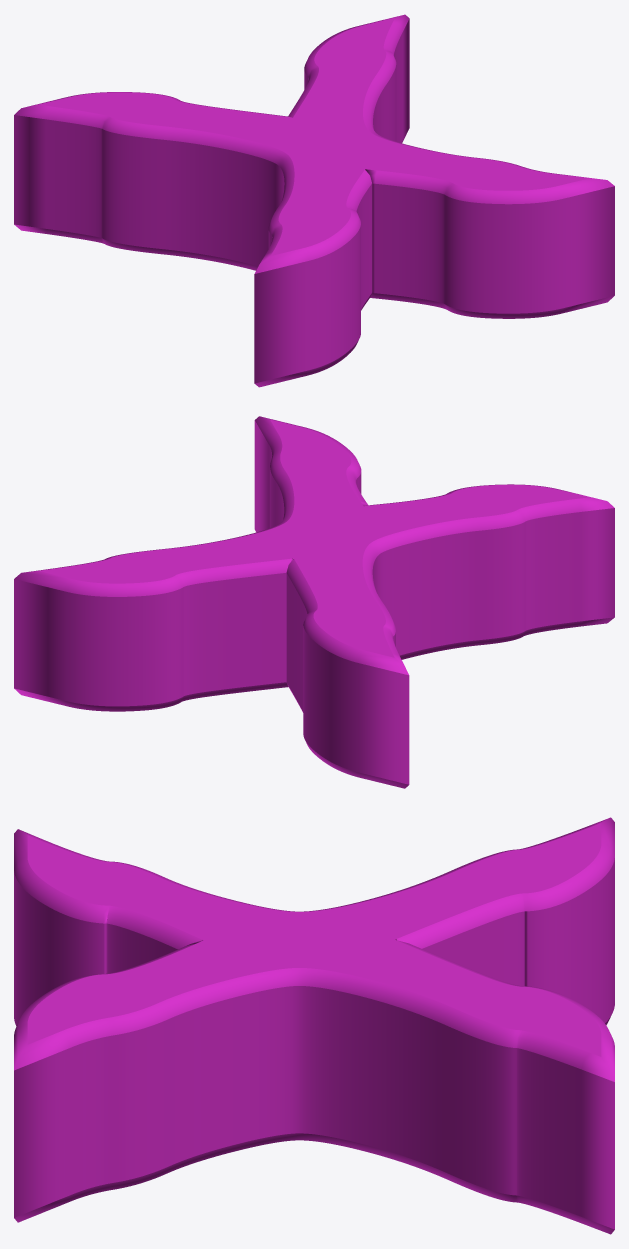
File: Blocky_Letter_x.fbx
The picture shows the model from 3 angles, top to bottom: view 1: azimuth 30°, elevation 25°; view 2: azimuth 150°, elevation 25°; view 3: azimuth 270°, elevation 25°; orthographic projection. The views are drawn at different scales.
Parts seen in each view (by area): view 1: BlockyLetter_x; view 2: BlockyLetter_x; view 3: BlockyLetter_x.
Boxes of the visible parts, x1,y1,x2,y2 form: BlockyLetter_x: (14,14,614,387); BlockyLetter_x: (14,416,614,788); BlockyLetter_x: (14,817,614,1234).
Bounding box in the file's own units: 0.4537 × 0.14 × 0.4433.
